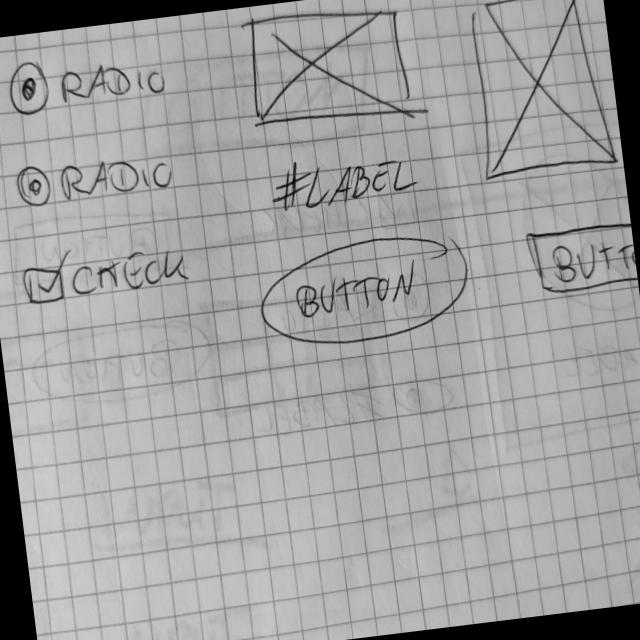checkbox: (22, 241, 195, 310)
image: (464, 1, 622, 183), (241, 1, 419, 135)
label: (269, 145, 423, 218)
radio: (5, 43, 171, 121), (13, 146, 178, 213)
